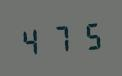five: (75, 18, 102, 52)
four: (18, 23, 45, 57)
seven: (47, 21, 74, 54)
